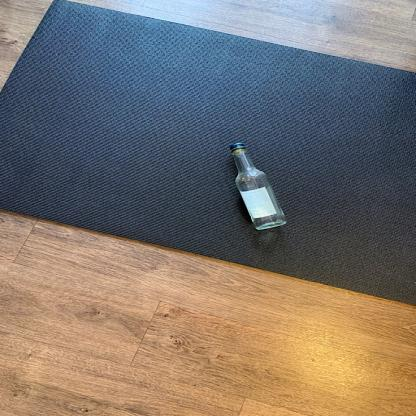trash: (227, 141, 289, 232)
